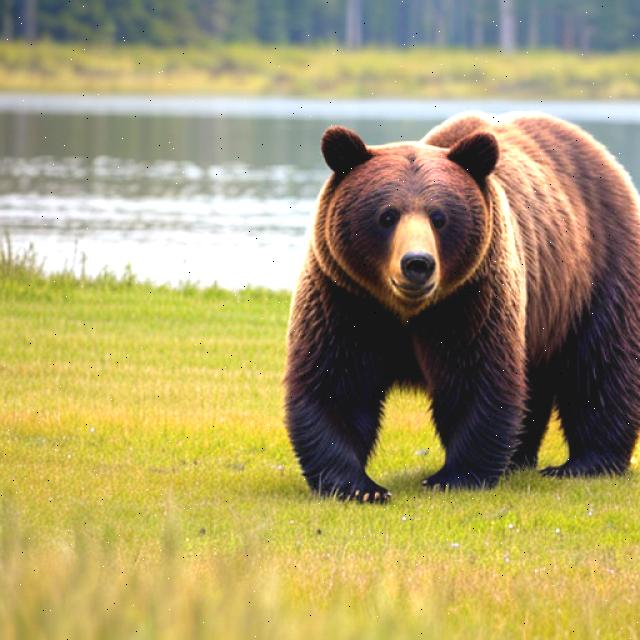bear: (299, 123, 518, 333)
